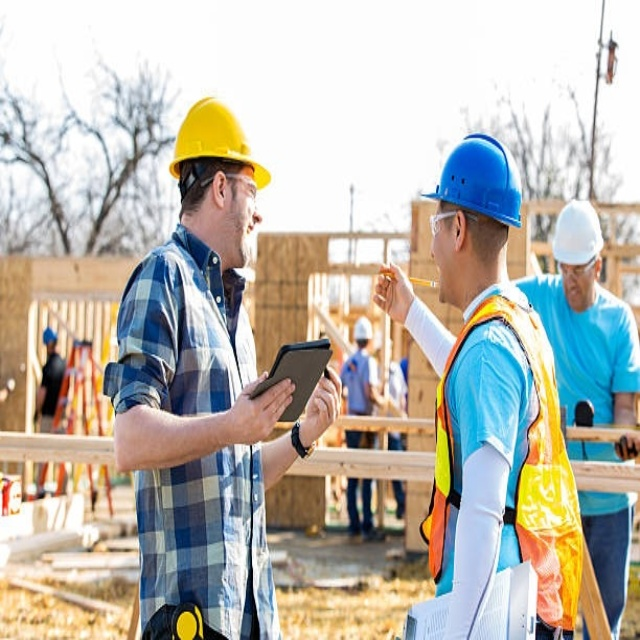Gafas: (430, 205, 464, 235), (558, 254, 598, 278), (204, 176, 260, 193)
Sin_guantes: (235, 369, 301, 444), (301, 367, 342, 443), (371, 259, 412, 318), (614, 435, 639, 461)
Sin_mascara: (433, 251, 458, 301), (231, 218, 257, 260)
